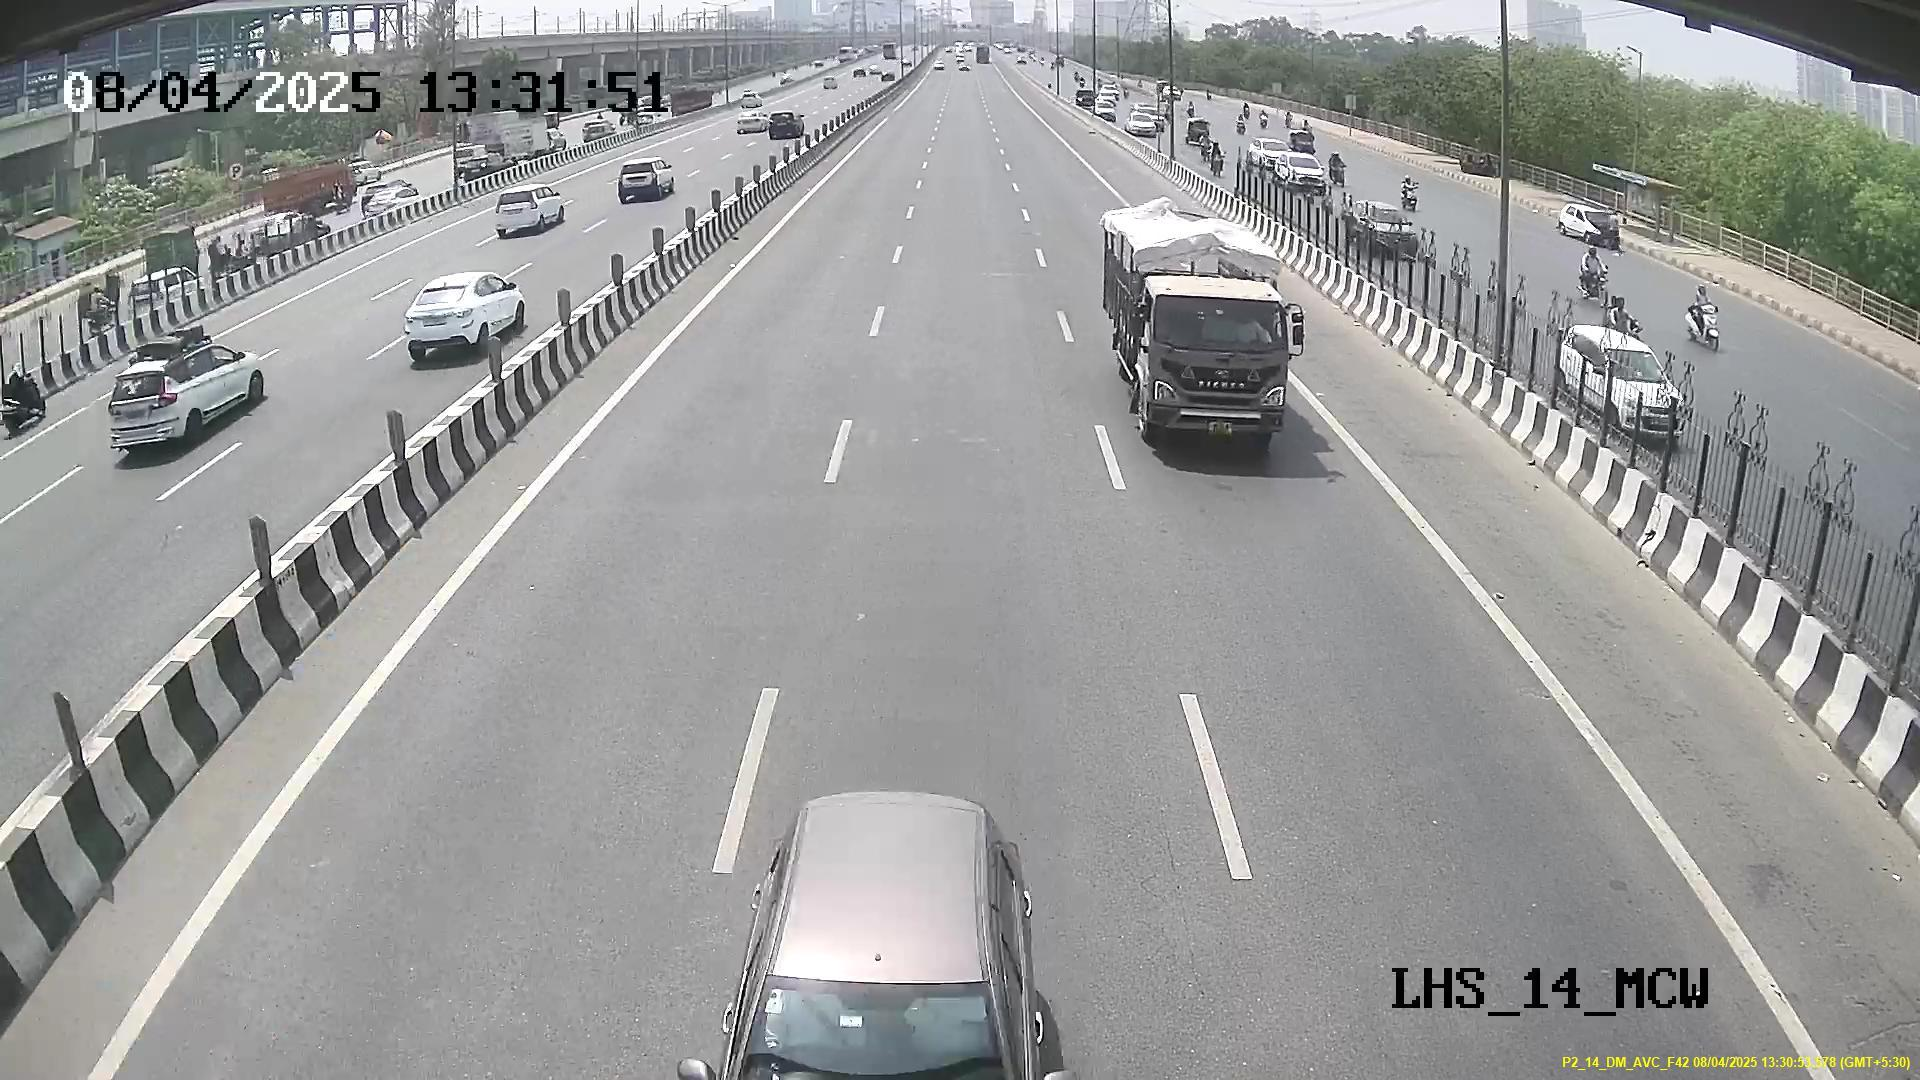lcv: (1135, 278, 1290, 447)
